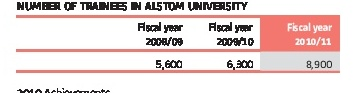table: (0, 0, 355, 93)
